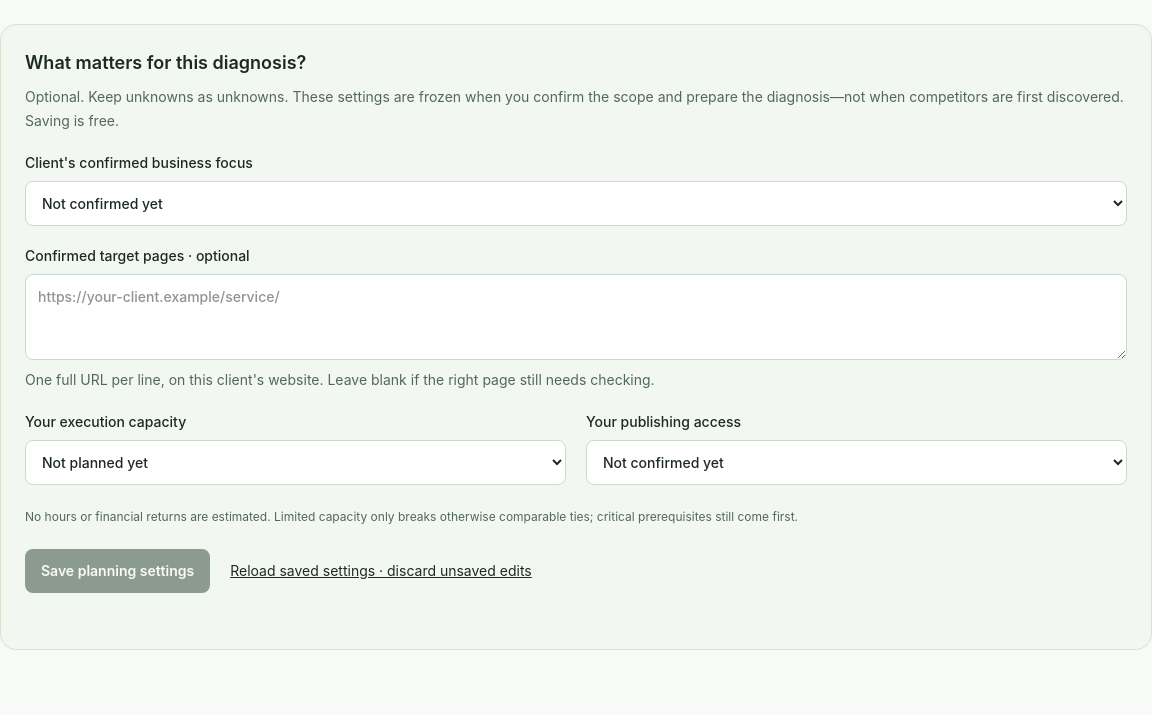
Test: planning settings UI › rejects a foreign page locally without sending it
This screenshot has width=1152, height=715.
Expected: the dropdown labelled "Client's confirmed business focus" is shown, [25,181,1127,226]
In the text box: coordinates (576, 317) [25,274,1127,360], type "https://foreign.example/"
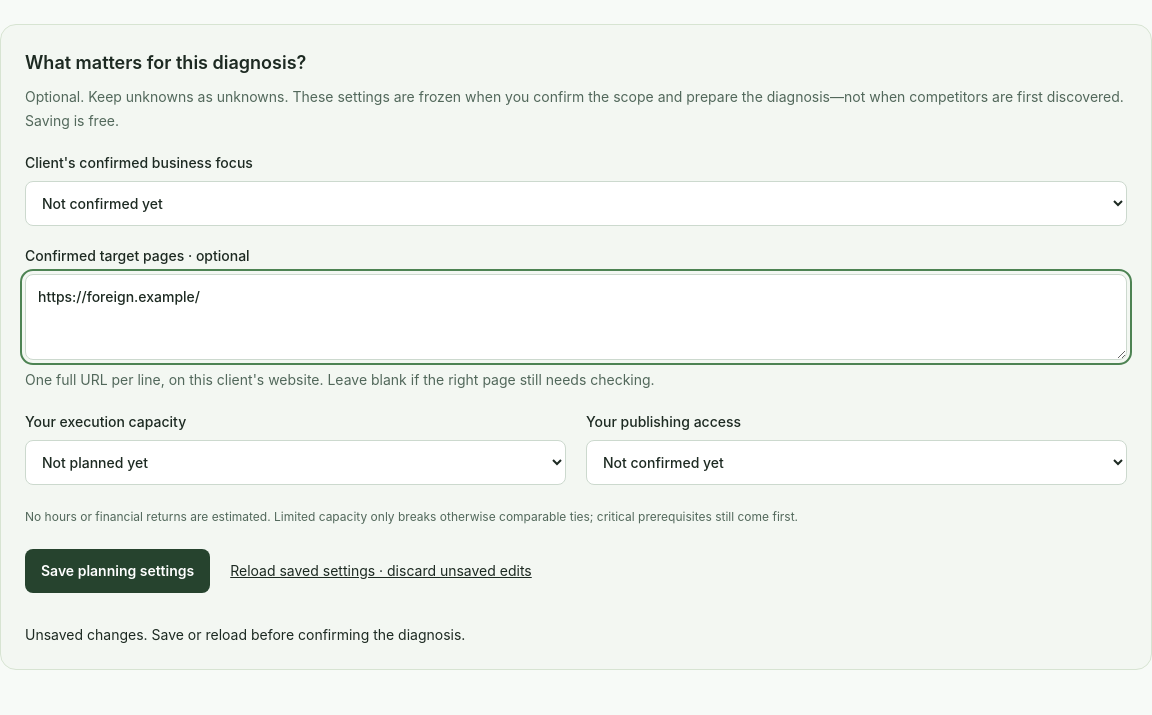
Click the button "Save planning settings": coordinates (118, 571) [25,549,210,593]
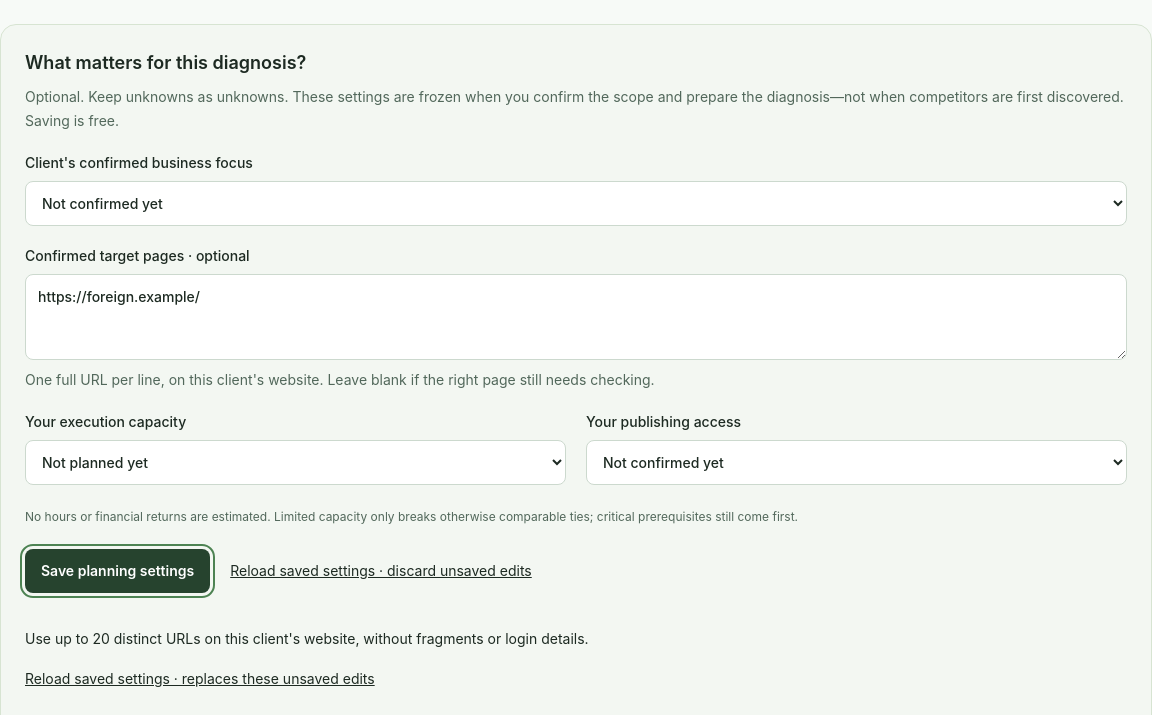
Expected: the 1st message is shown, [25,630,589,647]
